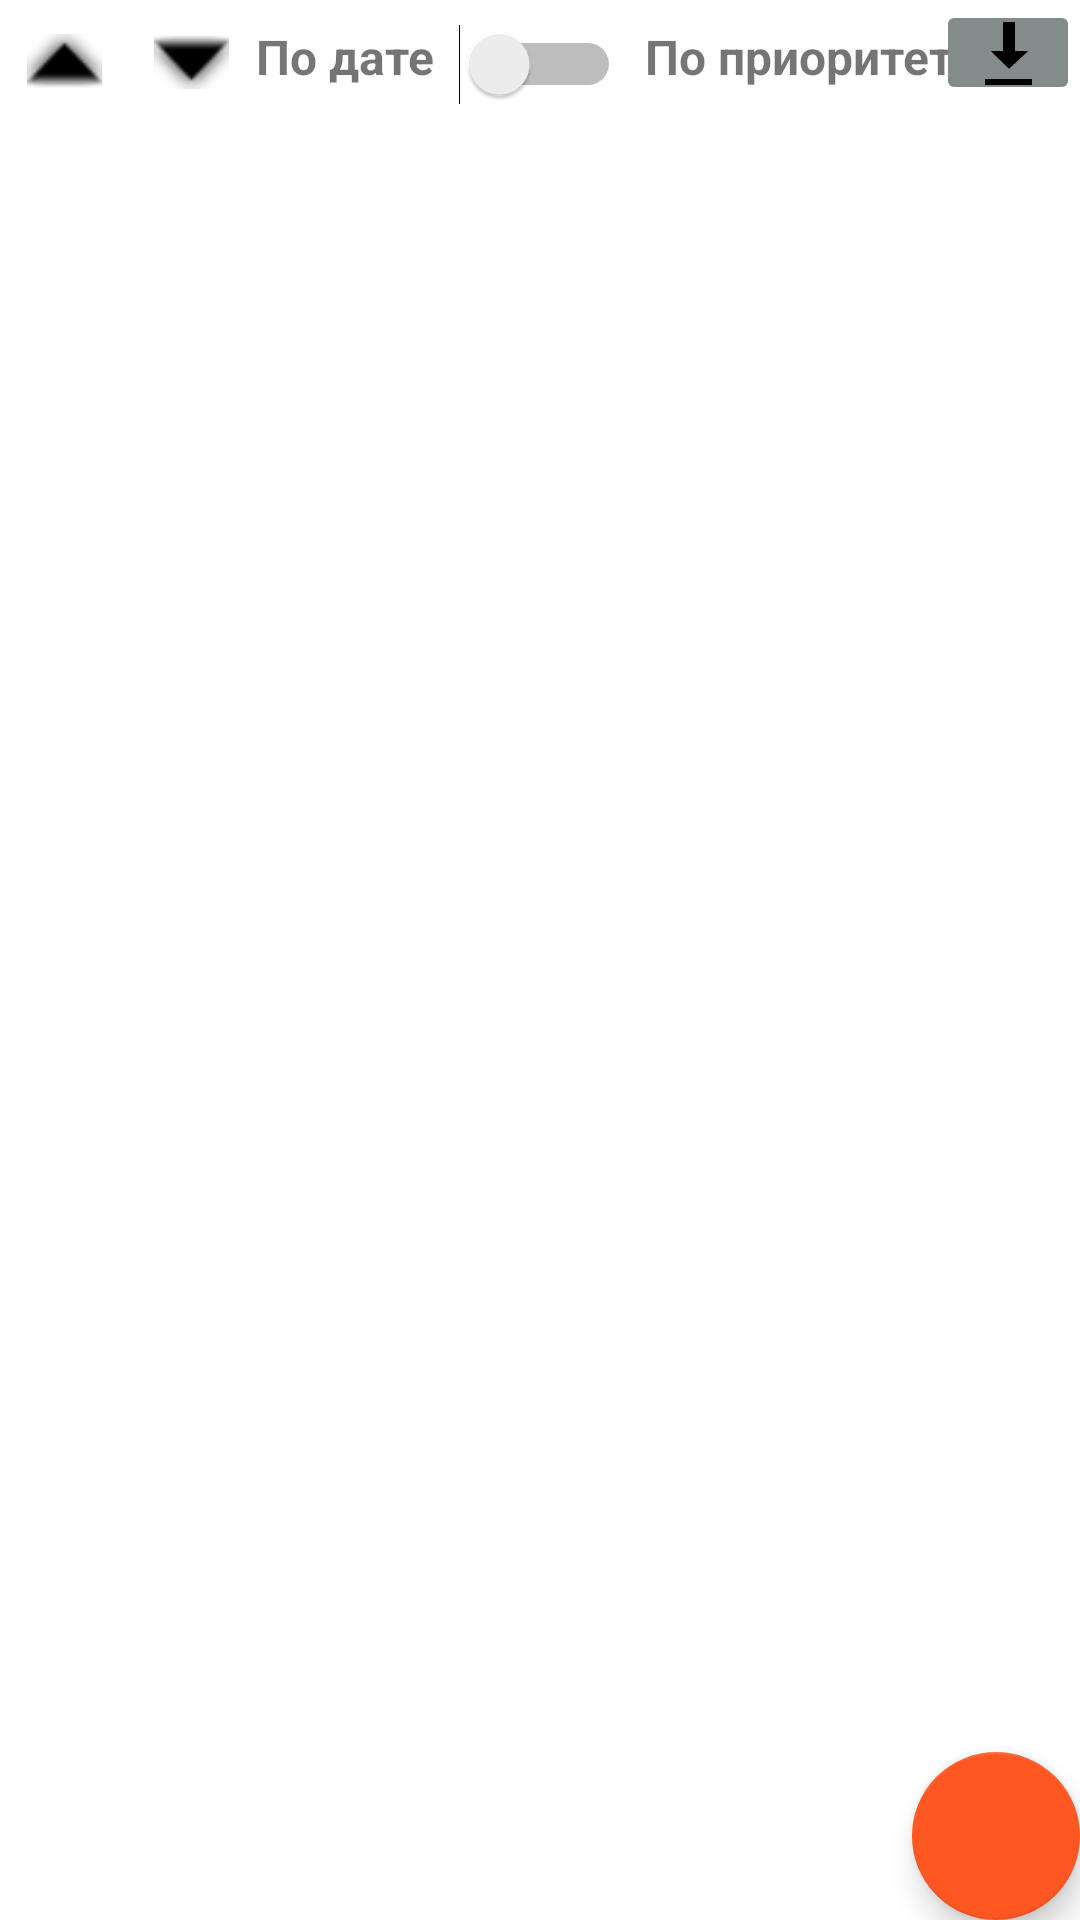

Icons on this 1080 × 1920 Android screen, each with the point to tap as (x,y):
arrow down float: (191,62)
arrow up float: (64,60)
download: (1002,52)
